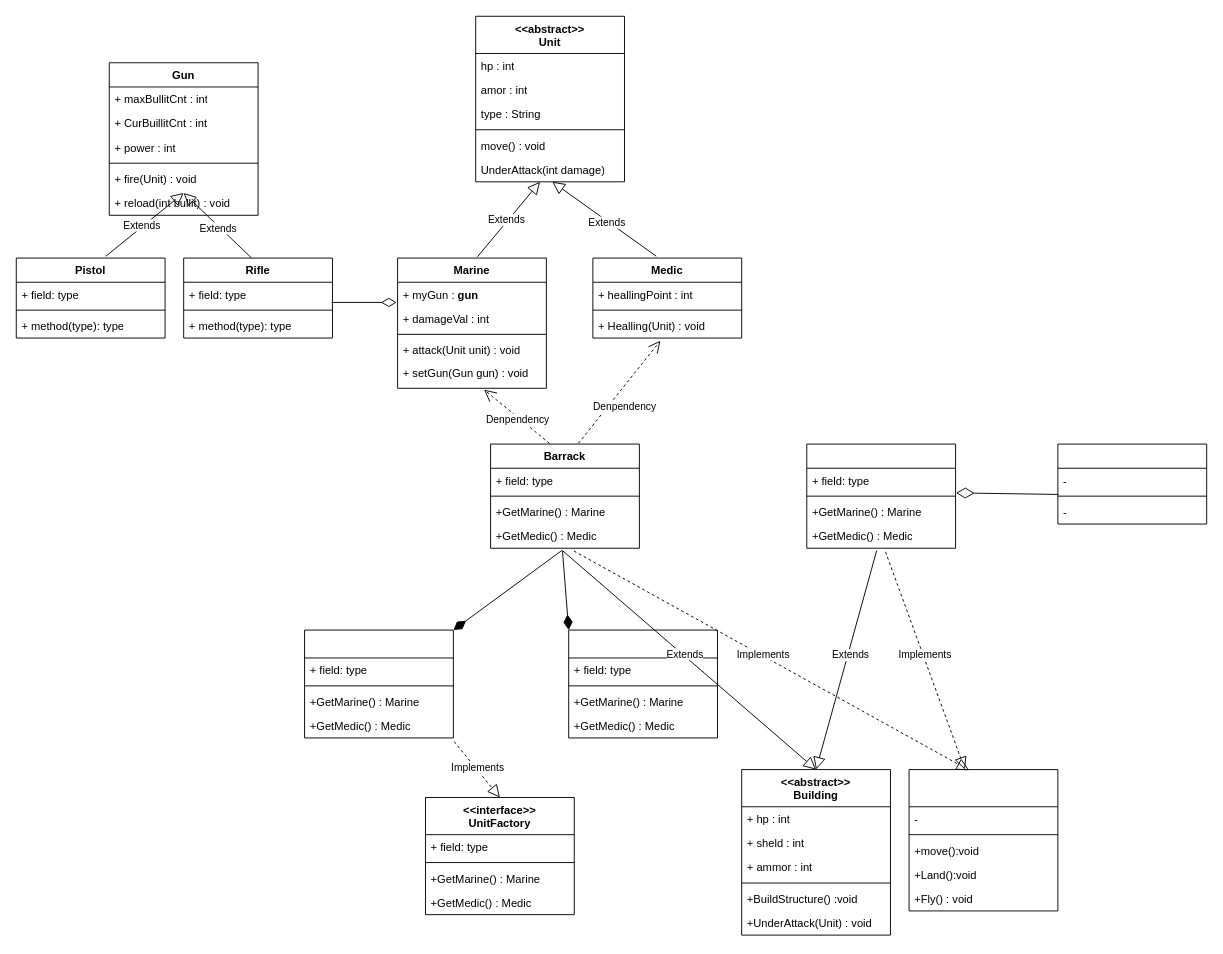
The diagram is 1223 pixels wide and 954 high, and some of its shapes have lost their labels. Each missing label, with the box of its shape:
<<Interface>> ICanFly: (908, 769, 1058, 911)
AddOn: (1057, 443, 1207, 524)
Factory: (806, 443, 956, 548)
MarineFactory: (304, 629, 453, 738)
MedicFactory: (568, 629, 717, 738)
